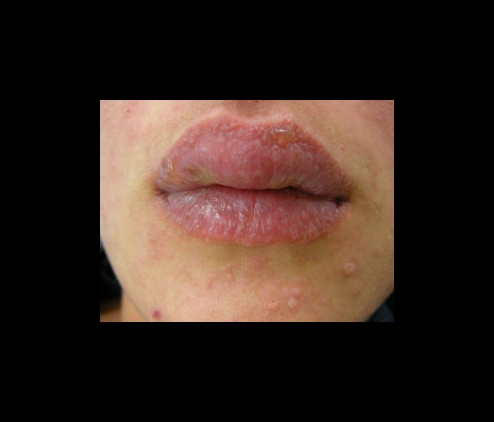SJS-TEN: (145, 99, 323, 184), (261, 267, 322, 329), (337, 256, 373, 300)
